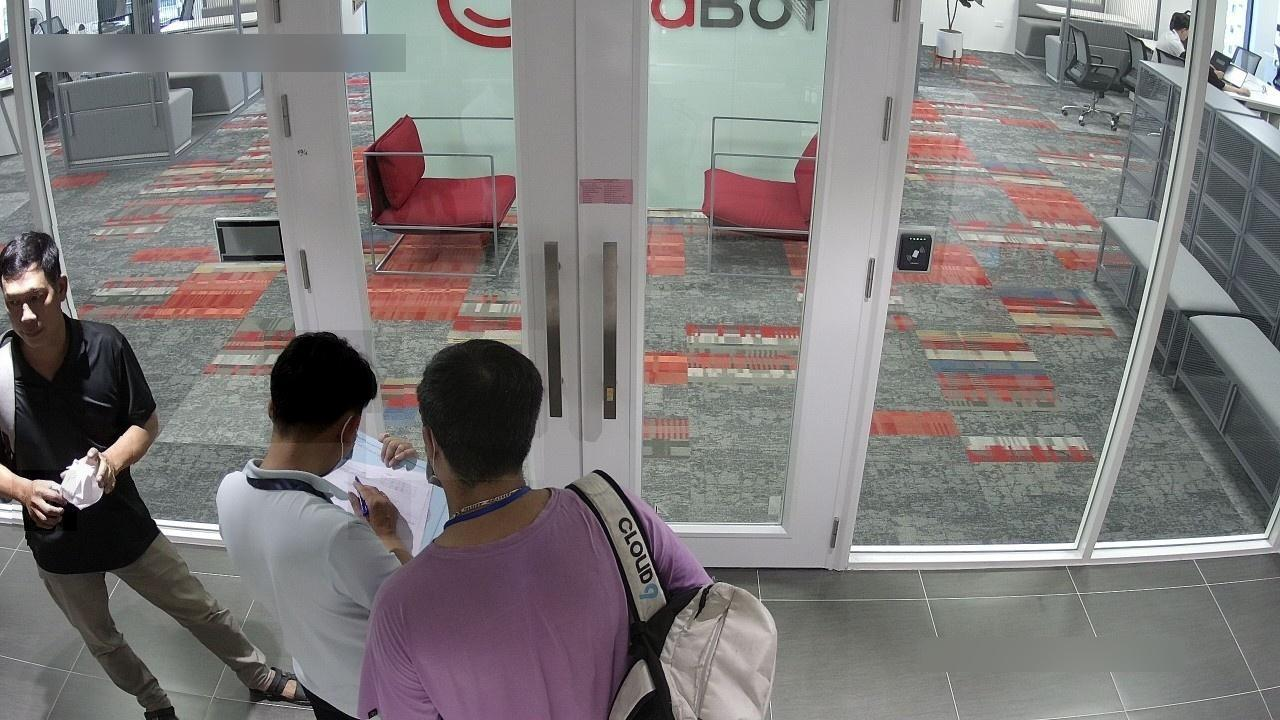no_apron: (348, 473, 412, 541), (77, 436, 134, 512), (13, 470, 78, 532), (367, 413, 425, 478)
no_gloves: (405, 331, 545, 481), (265, 330, 373, 443), (0, 227, 96, 310)
no_hairnet: (2, 272, 64, 346)
